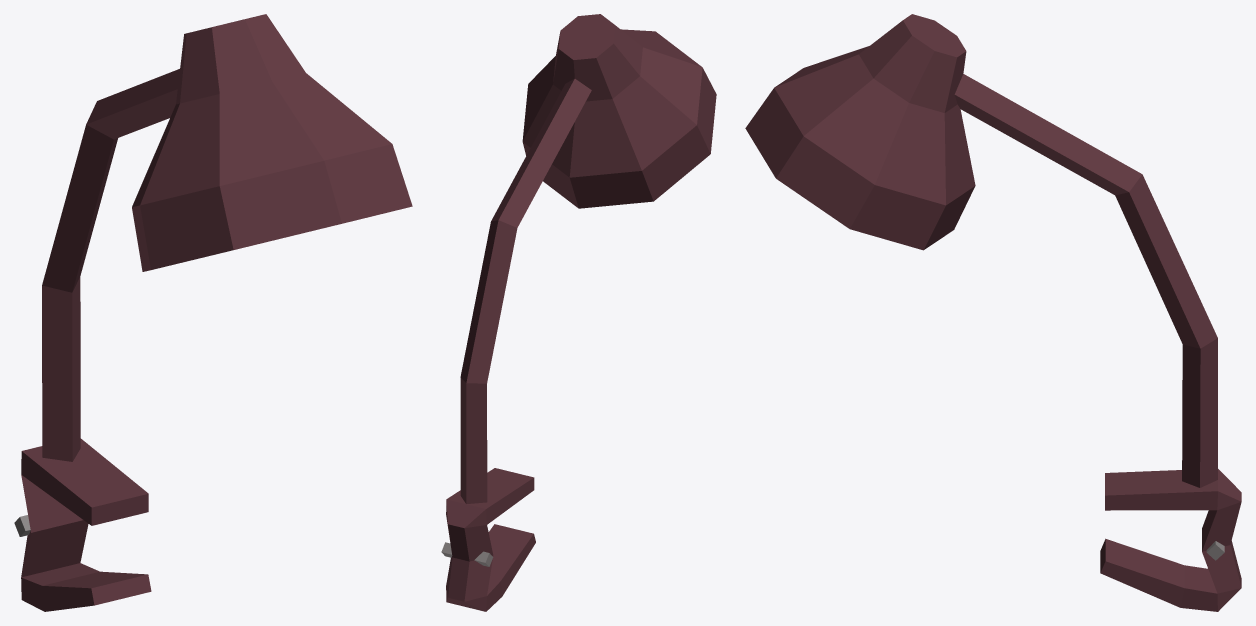
The model's file is furniture-light-table-edge.glb.
3 renders of one model, left to right at view 1: azimuth 30°, elevation 25°; view 2: azimuth 150°, elevation 25°; view 3: azimuth 270°, elevation 25°, orthographic. The views are drawn at different scales.
Visible parts, largest first — view 1: light-table-edge; view 2: light-table-edge; view 3: light-table-edge.
Boxes of the visible parts, left/top/right/bottom form: light-table-edge: left=14, top=14, right=412, bottom=611; light-table-edge: left=441, top=14, right=716, bottom=611; light-table-edge: left=745, top=14, right=1241, bottom=611.
Size of the model in its own units: 0.16 by 0.4324 by 0.3351.
